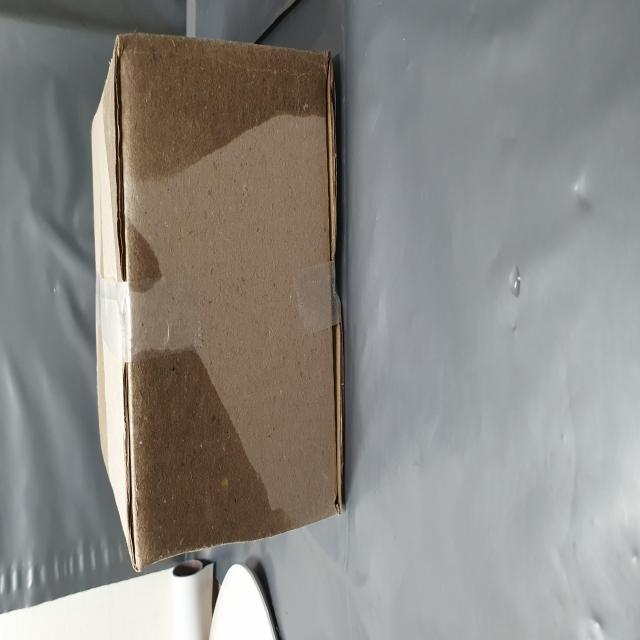wet: (45, 193, 351, 620)
